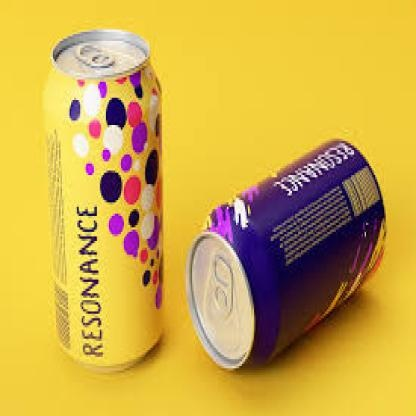trash: (187, 140, 384, 368), (44, 30, 162, 366)
